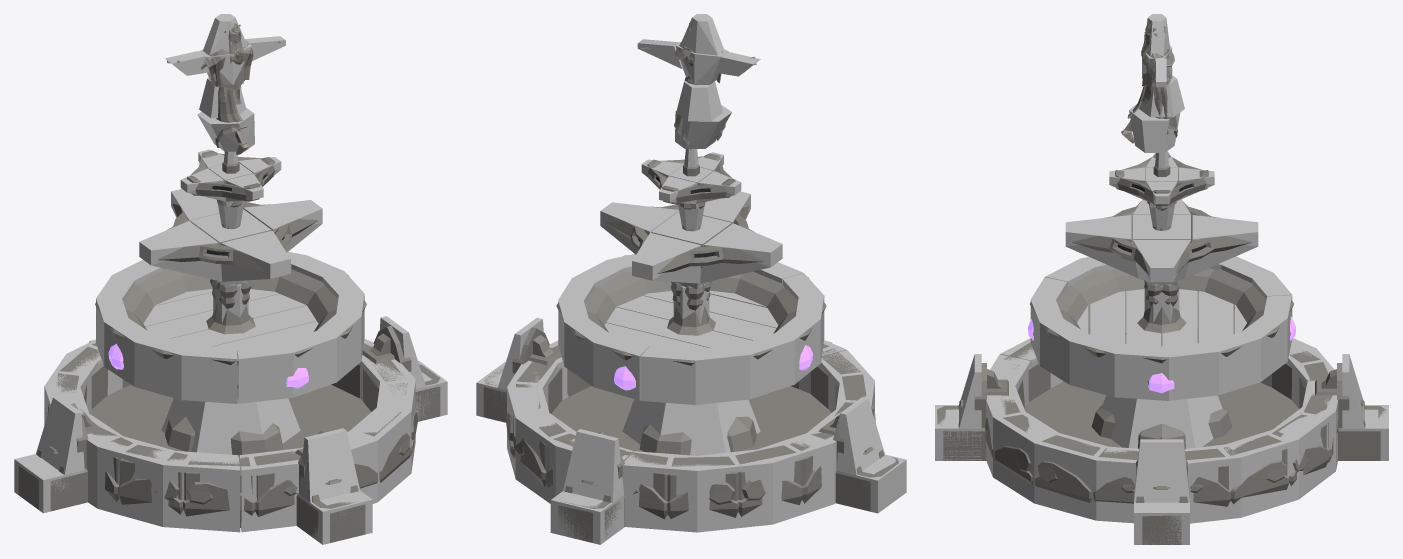
Rendered from SM_Prop_Fountain_01.fbx.
3 renders of one model, left to right at view 1: azimuth 30°, elevation 25°; view 2: azimuth 150°, elevation 25°; view 3: azimuth 270°, elevation 25°, orthographic. The views are drawn at different scales.
Parts seen in each view (by area): view 1: SM_Prop_Fountain_01_ConvexHulls, SM_Prop_Fountain_01; view 2: SM_Prop_Fountain_01_ConvexHulls, SM_Prop_Fountain_01; view 3: SM_Prop_Fountain_01_ConvexHulls, SM_Prop_Fountain_01.
Boxes of the visible parts, <box> form: SM_Prop_Fountain_01_ConvexHulls: <box>14,14,447,544</box>; SM_Prop_Fountain_01: <box>18,23,440,542</box>; SM_Prop_Fountain_01_ConvexHulls: <box>476,14,906,544</box>; SM_Prop_Fountain_01: <box>483,23,898,542</box>; SM_Prop_Fountain_01_ConvexHulls: <box>935,14,1388,544</box>; SM_Prop_Fountain_01: <box>937,24,1385,544</box>.
Bounding box in the file's own units: 640 × 640 × 665.
2 materials, 1 textured.
